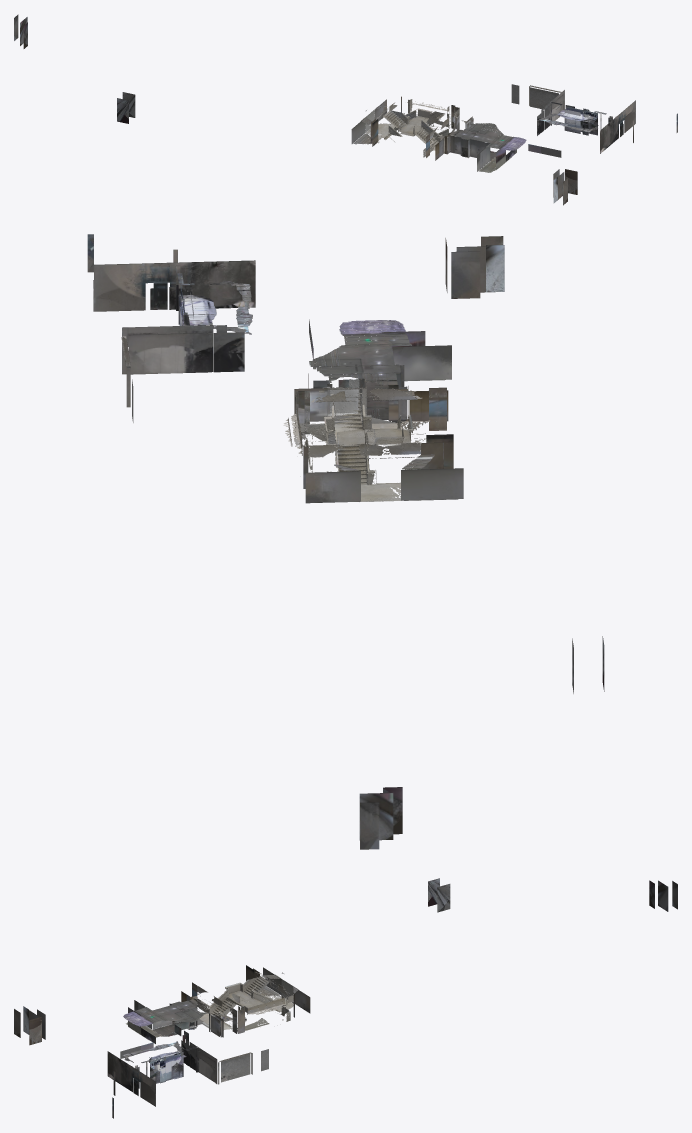
3 views of the same model, one above another, from view 1: azimuth 30°, elevation 25°; view 2: azimuth 150°, elevation 25°; view 3: azimuth 270°, elevation 25° (orthographic). The views are drawn at different scales.
Visible parts, largest first — view 1: structure_p0, stairwell_measured; view 2: structure_p0, stairwell_measured; view 3: structure_p0, stairwell_measured.
Boxes of the visible parts, <box> form: structure_p0: <box>14,14,677,205</box>; stairwell_measured: <box>365,99,466,157</box>; structure_p0: <box>87,234,604,849</box>; stairwell_measured: <box>283,379,436,501</box>; structure_p0: <box>14,878,677,1118</box>; stairwell_measured: <box>197,972,293,1032</box>.
Size of the model in its own units: 66.17 by 3.99 by 86.19.
Materials: 1 (1 with a texture image).
